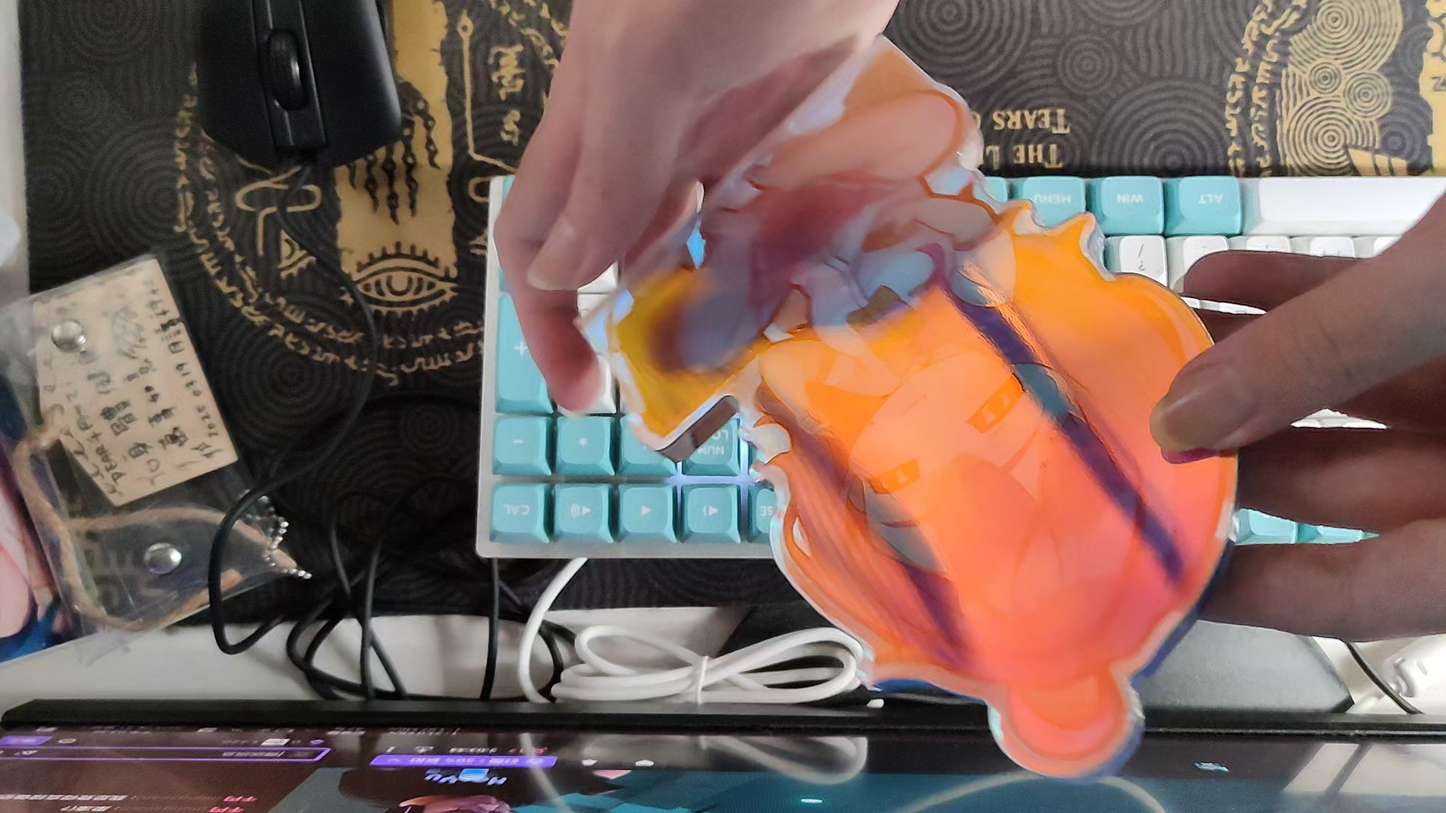Yanami-anna: (576, 32, 1245, 776)
